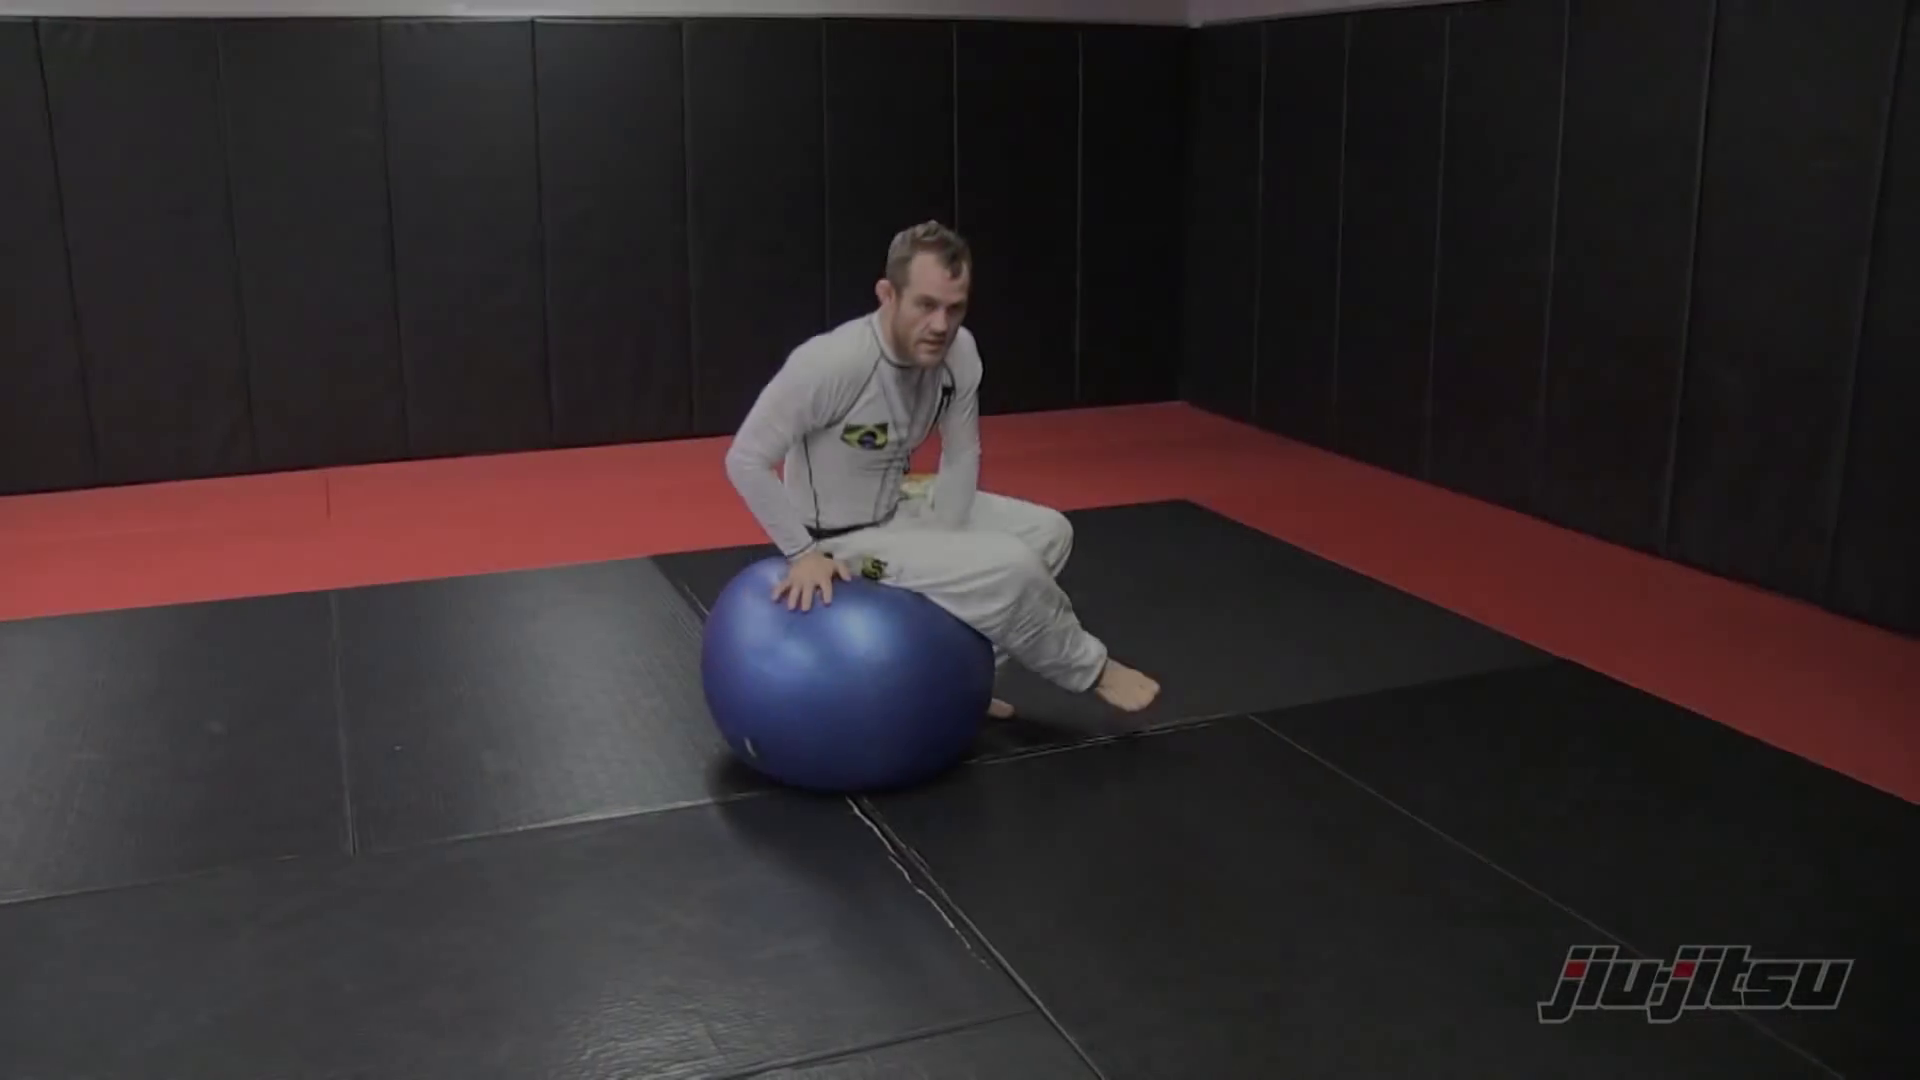yogaball: (692, 538, 1019, 814)
